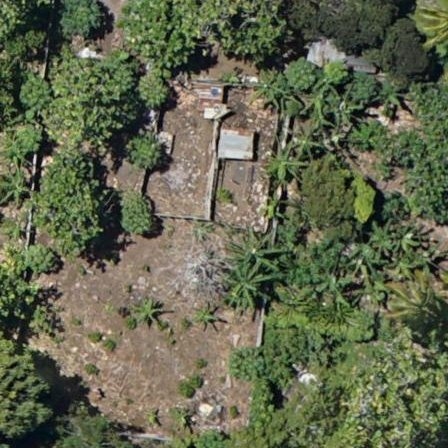palm_tree: (38, 446, 61, 448)
